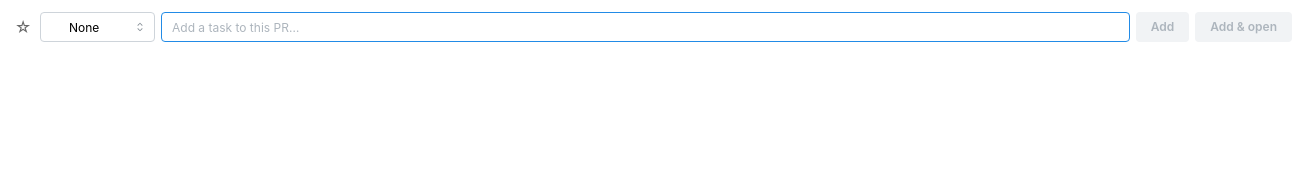
Scenario: TaskQuickAdd target › names where the task goes: placeholder, and tooltips on Add and Add & open
In the field named "New task": (645, 27) [161, 12, 1130, 42], type "x"
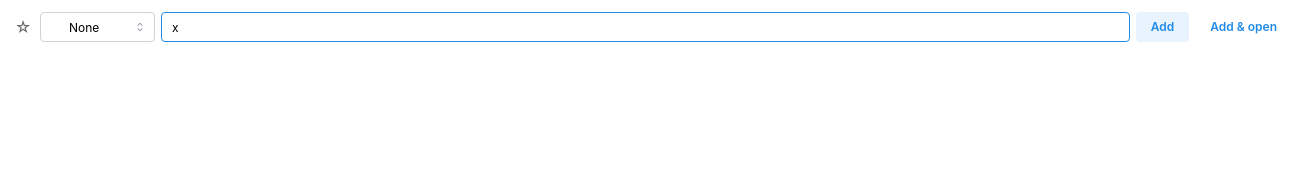
Hover over the button "Add": (1162, 27) [1136, 12, 1189, 42]
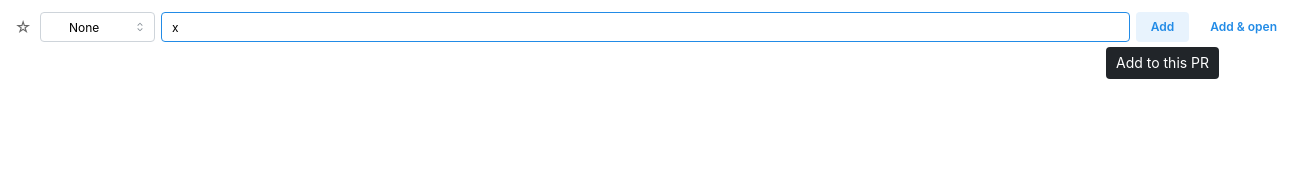
Result: the tooltip "Add to this PR" is shown at [1106, 47, 1219, 79]
Hover over the button "Add & open": (1244, 27) [1195, 12, 1292, 42]
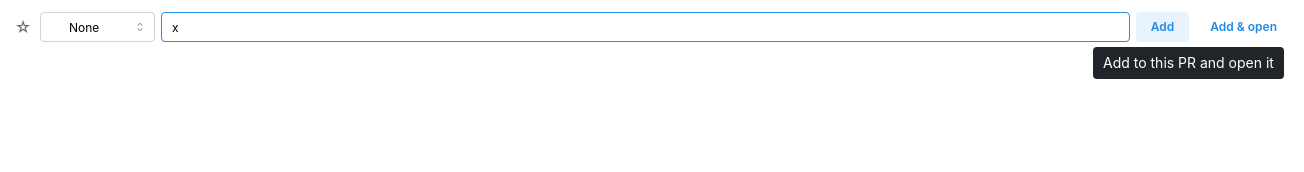
Result: the tooltip "Add to this PR and open it" is shown at [1093, 47, 1284, 79]
